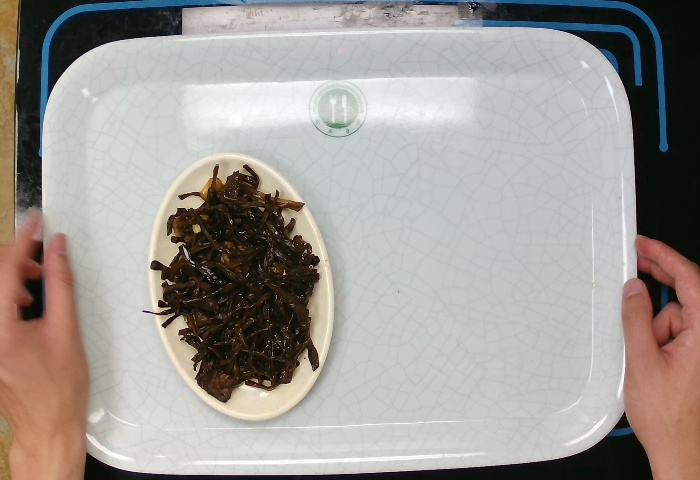JYsf-Tuo_Yuan_Wan: (144, 146, 337, 424)
